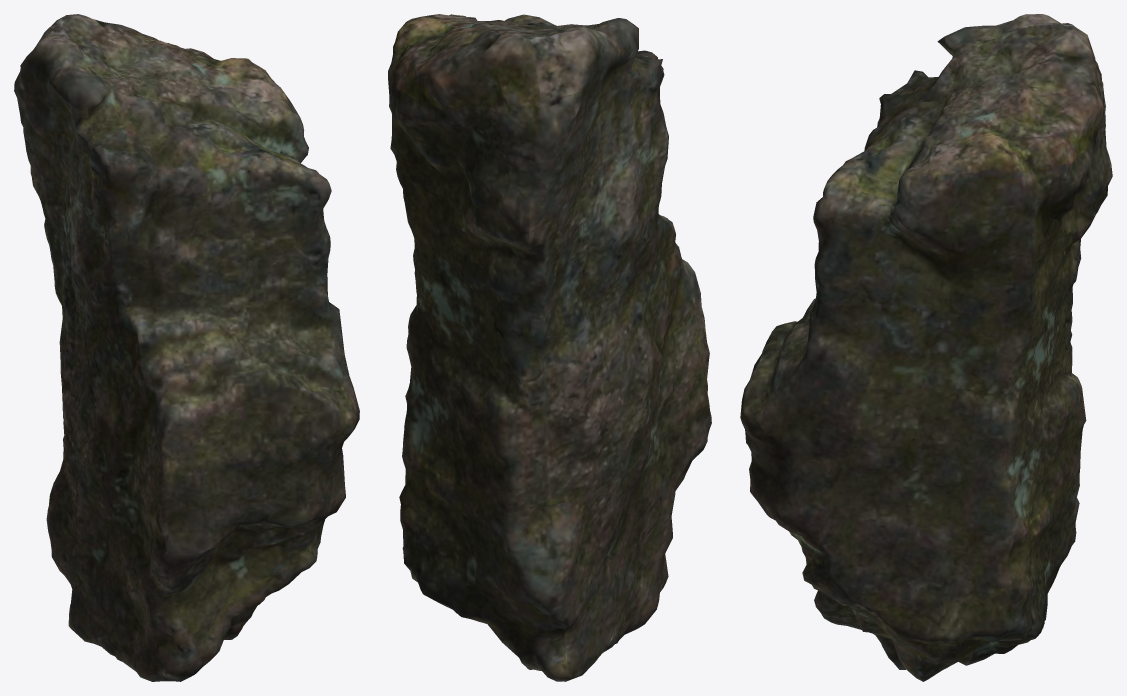
Rendered from Stone_B.glb.
3 renders of one model, left to right at view 1: azimuth 30°, elevation 25°; view 2: azimuth 150°, elevation 25°; view 3: azimuth 270°, elevation 25°, orthographic. The views are drawn at different scales.
Parts seen in each view (by area): view 1: Stone_B; view 2: Stone_B; view 3: Stone_B.
Boxes of the visible parts, <box> form: Stone_B: <box>14,14,359,681</box>; Stone_B: <box>388,14,711,681</box>; Stone_B: <box>740,14,1112,681</box>.
Size of the model in its own units: 0.2841 by 0.7772 by 0.4225.
Materials: 1 (1 with a texture image).
